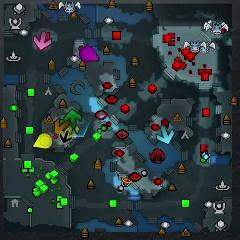p3: (79, 45, 101, 62)
p4: (32, 132, 53, 149)
x1: (34, 30, 52, 51)
x2: (68, 123, 80, 133)
x2Clone: (60, 128, 72, 144)
x3: (157, 125, 174, 144)
x4: (65, 109, 83, 129)
x5: (55, 118, 70, 136)
